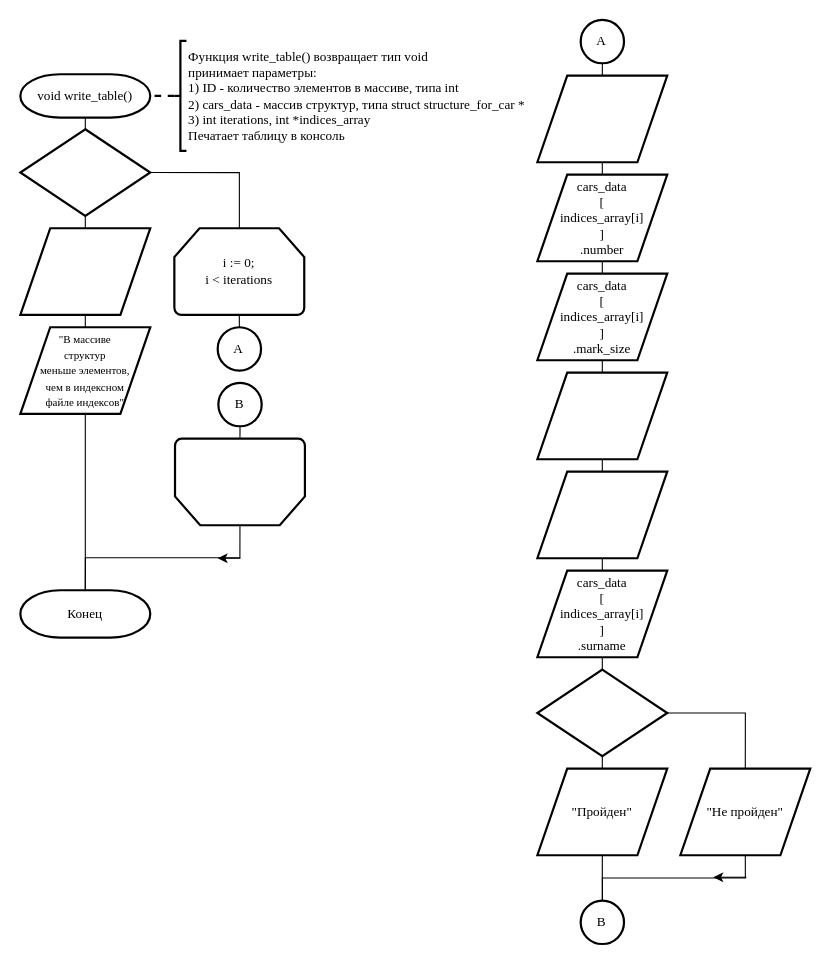
Image size: 831x965. Some labels were removed from this diagram. The shapes that lost their labels are listed below. From the top down, each one's centre as x and y in pixels, then its label:
the point at 602,118: cars_data [ indices_array[i] ] .number_size
the point at 85,172: ID < iterations
the point at 85,271: "Ошибка"
the point at 602,415: cars_data [ indices_array[i] ] .mark
the point at 239,481: i = i + 1
the point at 602,514: cars_data [ indices_array[i] ] .surname_size
the point at 602,712: cars_data[indices_array[i]] .osmotr == yes
